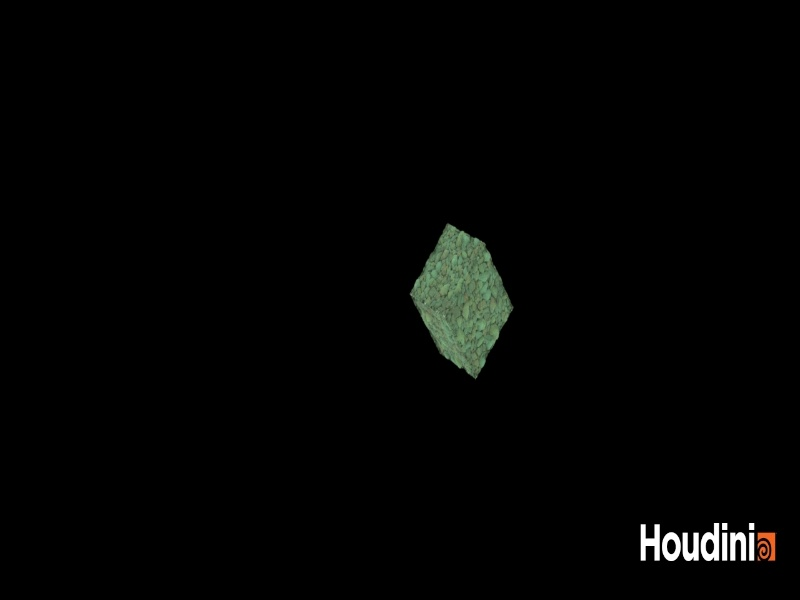waste: (405, 215, 531, 399)
